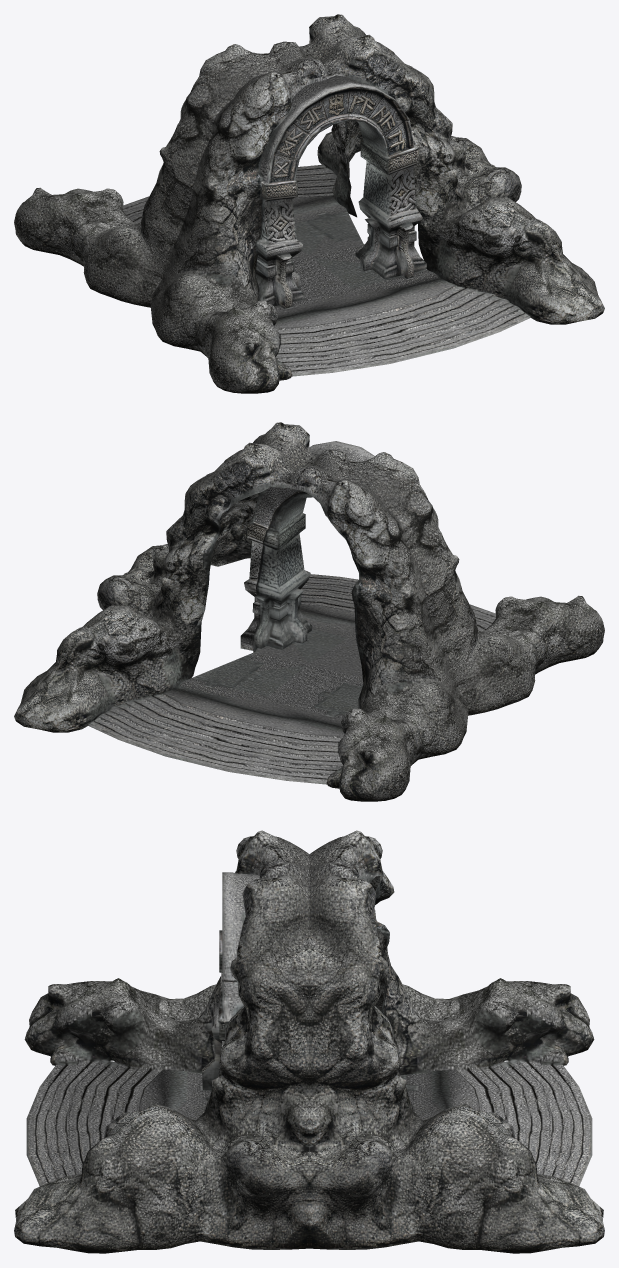
The model's file is KorribanCaveEntranceMirrored.obj.
3 renders of one model, top to bottom at view 1: azimuth 30°, elevation 25°; view 2: azimuth 150°, elevation 25°; view 3: azimuth 270°, elevation 25°, orthographic. The views are drawn at different scales.
Visible parts, largest first — view 1: KorribanCaveEntrance1:tripo_node_14ca3826_2eb9_48f1_9409_78bd29c; view 2: KorribanCaveEntrance1:tripo_node_14ca3826_2eb9_48f1_9409_78bd29c; view 3: KorribanCaveEntrance1:tripo_node_14ca3826_2eb9_48f1_9409_78bd29c.
Boxes of the visible parts, bbox=[...] form: KorribanCaveEntrance1:tripo_node_14ca3826_2eb9_48f1_9409_78bd29c: bbox=[14, 14, 604, 393]; KorribanCaveEntrance1:tripo_node_14ca3826_2eb9_48f1_9409_78bd29c: bbox=[14, 422, 604, 801]; KorribanCaveEntrance1:tripo_node_14ca3826_2eb9_48f1_9409_78bd29c: bbox=[14, 830, 604, 1253].
Bounding box in the file's own units: 77.64 × 45.09 × 84.5.
1 material, 1 textured.
